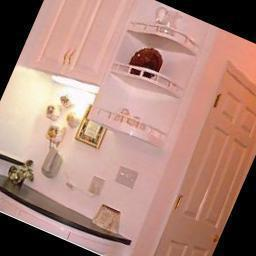Puerta: (145, 86, 256, 256)
